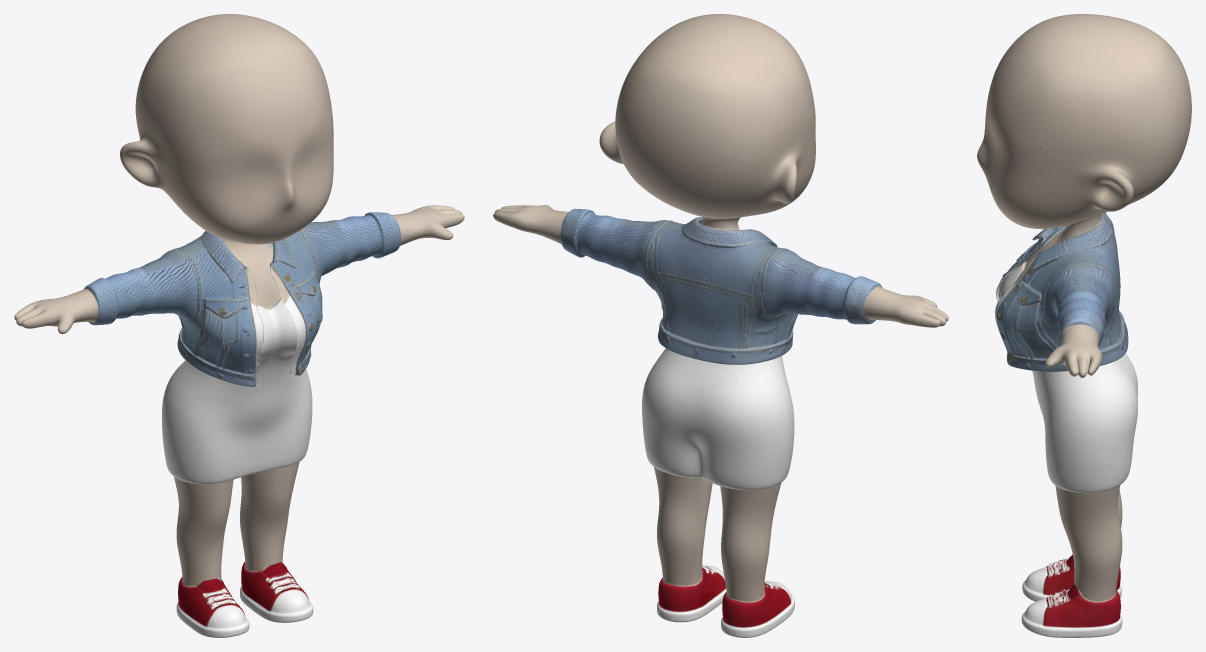
File: baked_outfit_sundress.glb
3 renders of one model, left to right at view 1: azimuth 30°, elevation 25°; view 2: azimuth 150°, elevation 25°; view 3: azimuth 270°, elevation 25°, orthographic.
Bounding box in the file's own units: 1.51 × 1.9 × 0.6285.
1 material, 1 textured.
